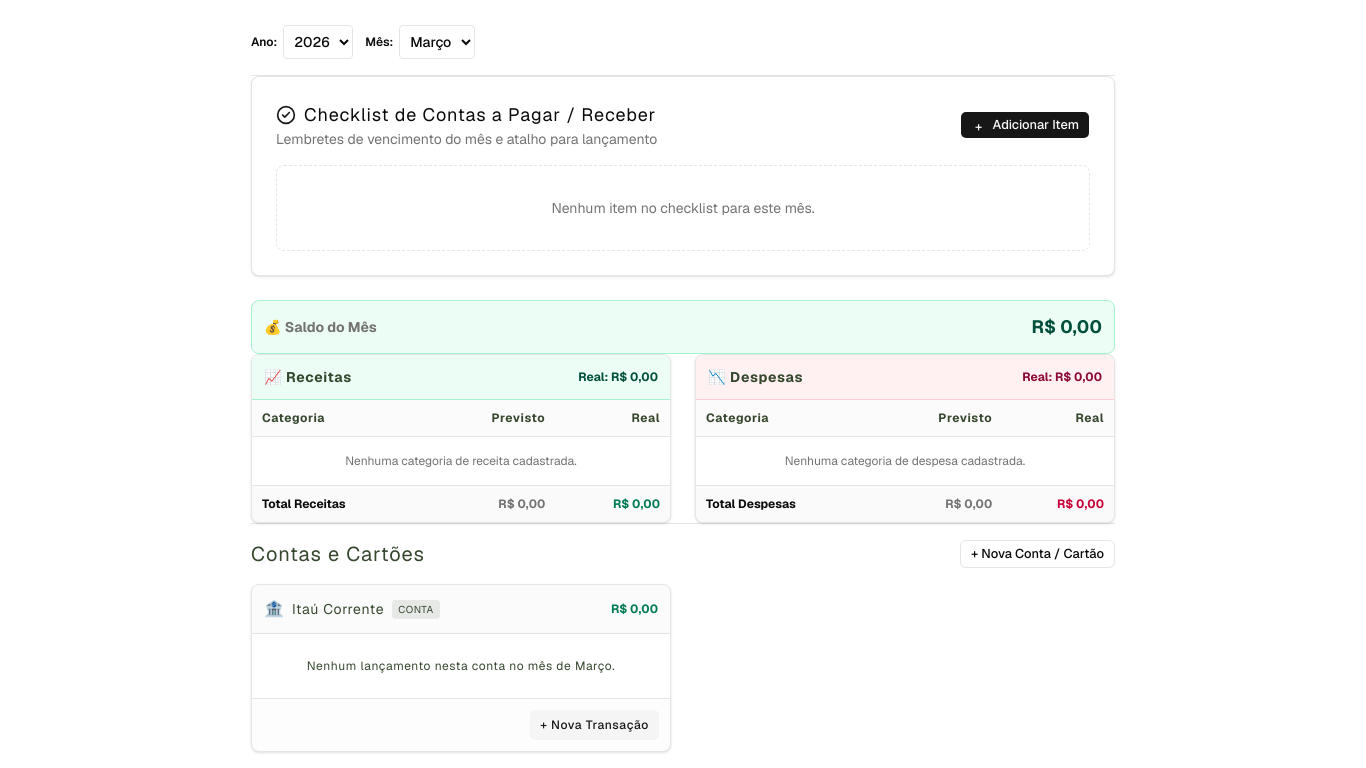
Test: Página de Cadastro de Transações /pluto/transactions › deve abrir o modal de lançamento com a conta fixada ao clicar no botão do rodapé
(page scrolled)
expect the heading "Itaú Corrente" is shown: met, box [292,599,384,619]
Click the button "+ Nova Transação": (595, 725) [529,709,660,741]
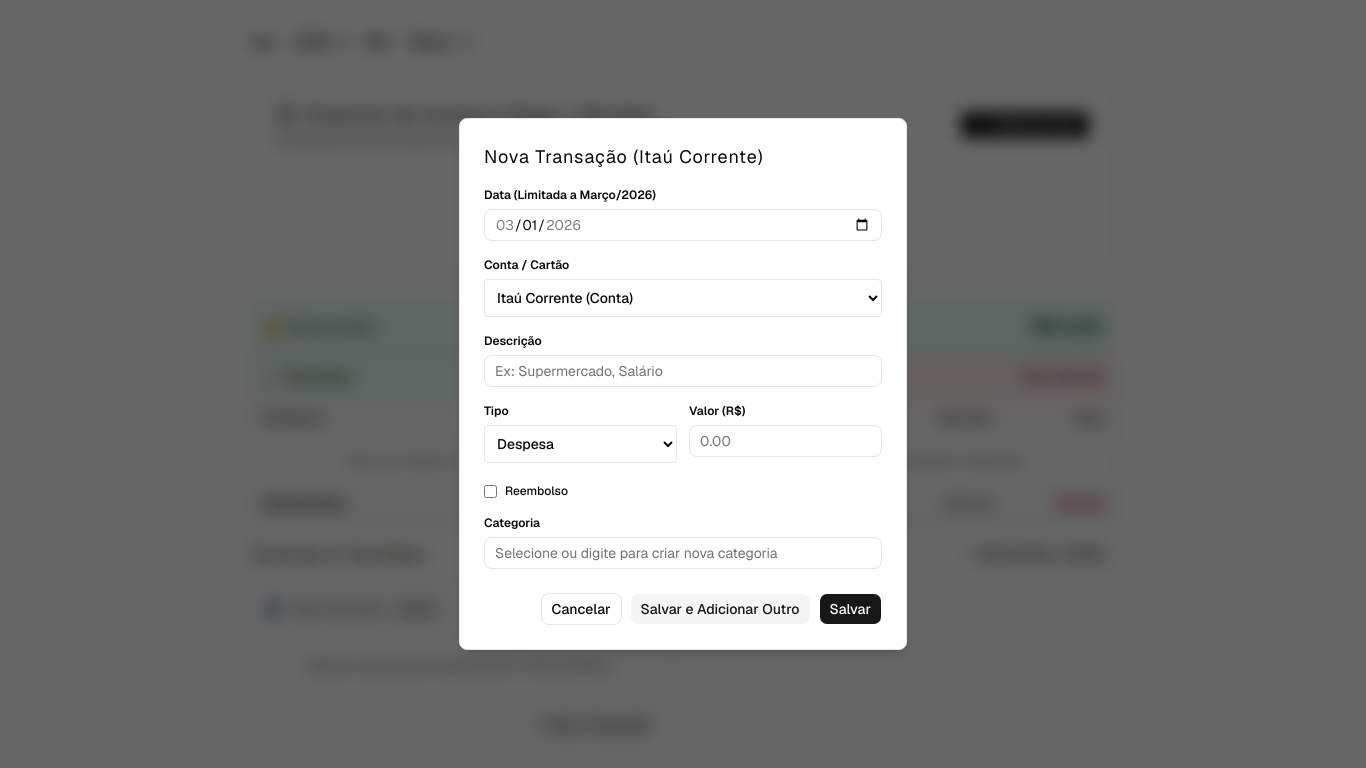
expect the heading "Nova Transação (Itaú Corrente)" is shown: met, box [484,145,764,168]
expect the dropdown labelled "Conta / Cartão" shows "Itaú Corrente (Conta)": met, box [484,279,882,317]
